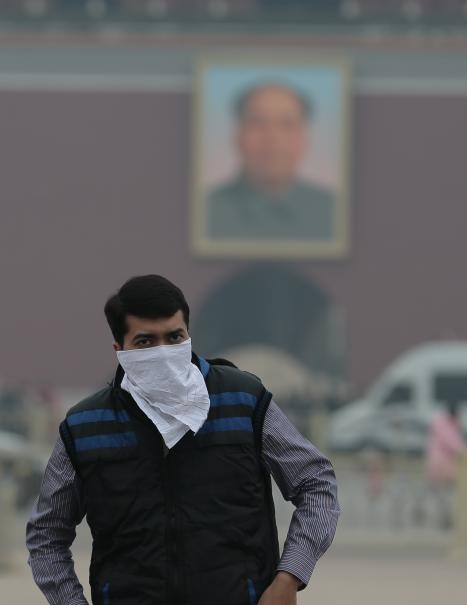face: (245, 95, 303, 183)
face_mask: (123, 306, 190, 400)
